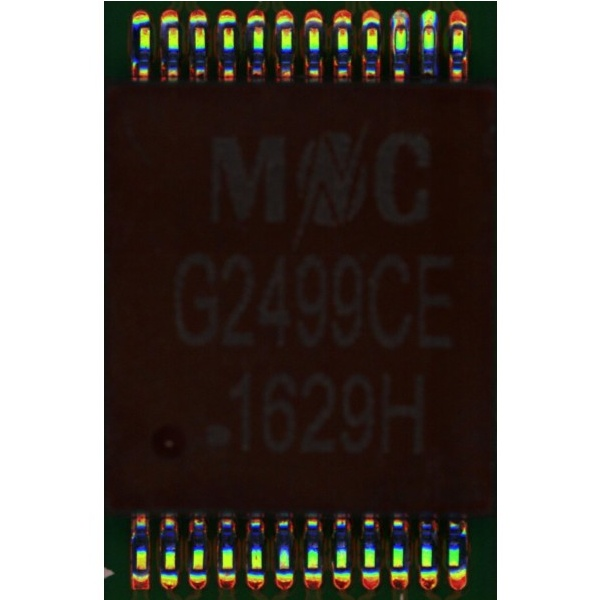Bad_qiaojiao: (405, 26, 410, 57), (391, 27, 395, 55)
